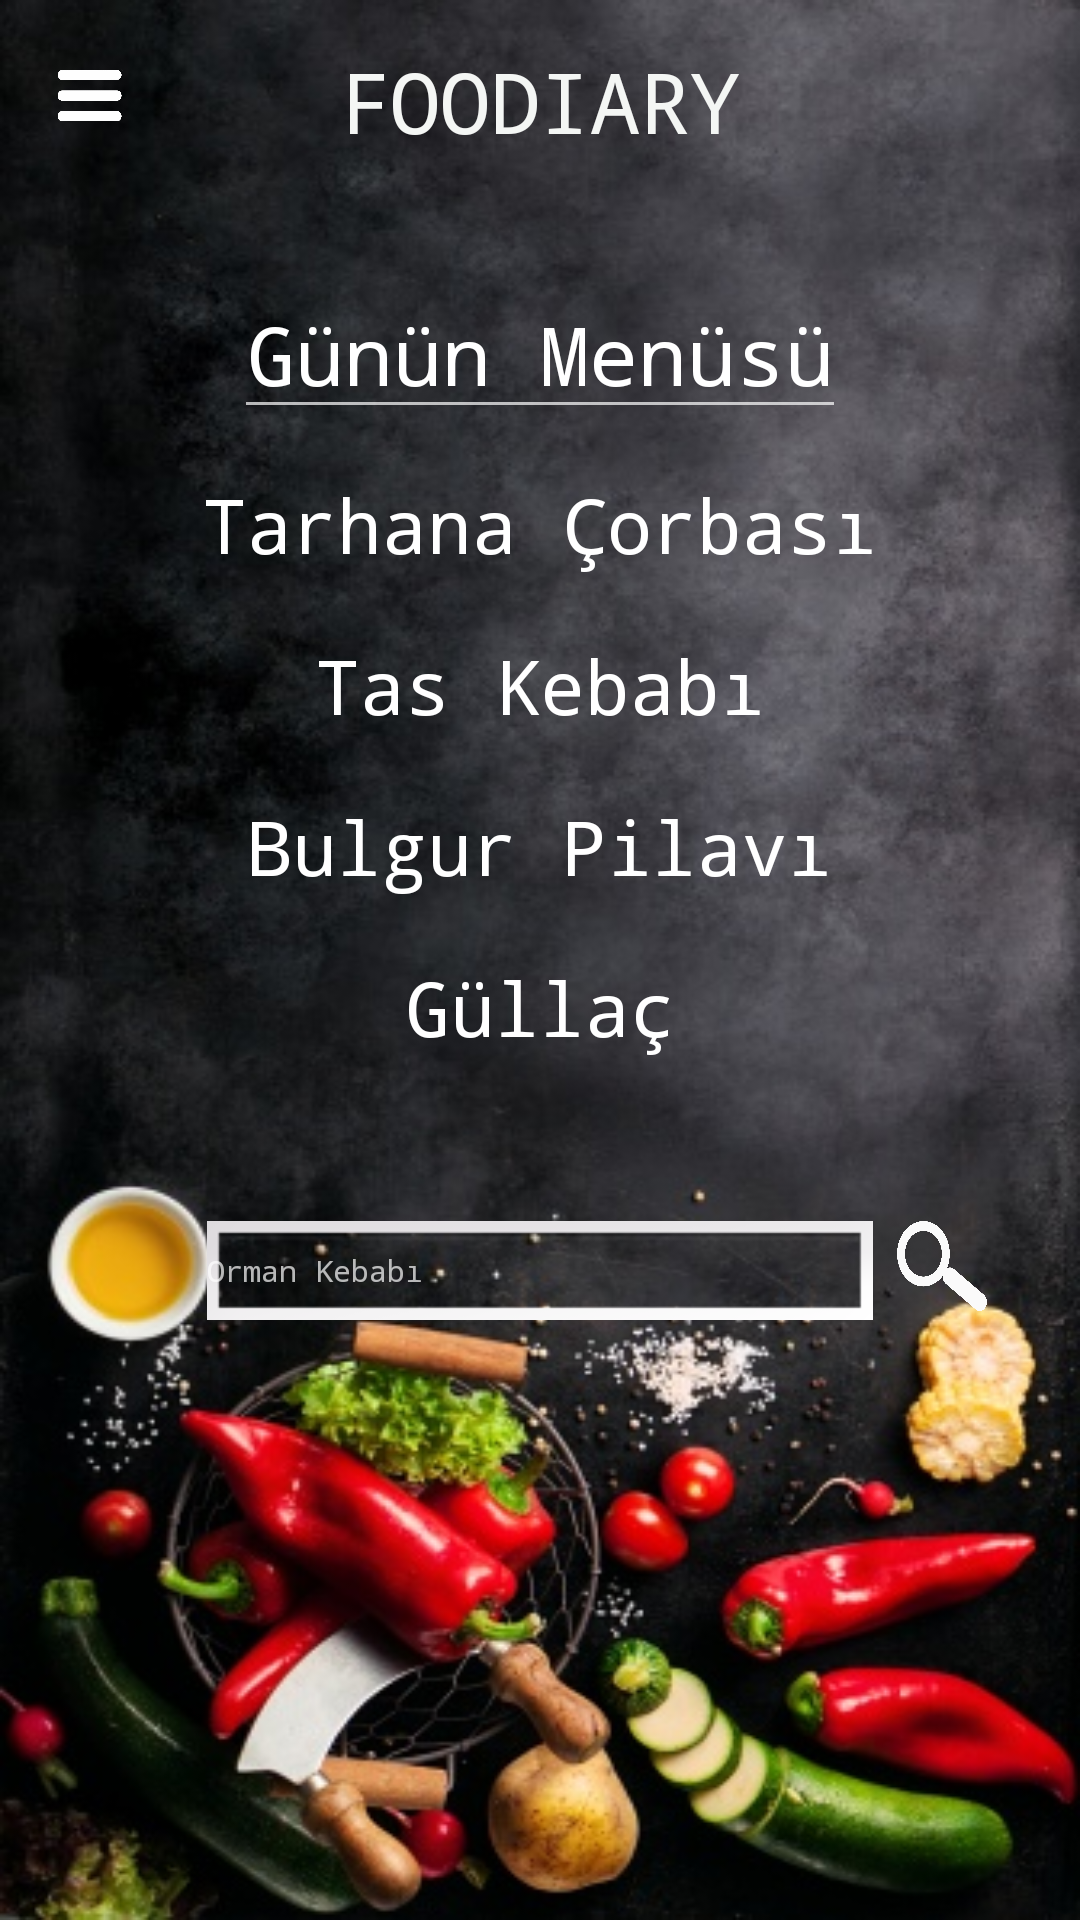

Icon bounding boxes for this 1080×1920 phone screenshot, format bbox(x1, y1, x2, y2):
menu: bbox(58, 70, 122, 121)
search: bbox(897, 1221, 987, 1311)
